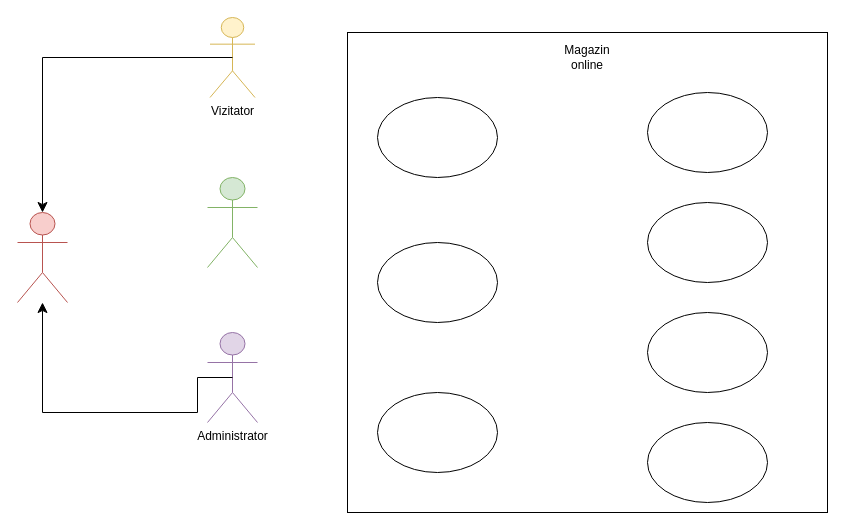
This 845x530 diagram has some shape labels left out. The shapes that lost their labels are listed below. From the top down, each one's box as (x1, y1, x2, y2) in pixels, then its label:
(206, 176, 258, 268): Client
(16, 212, 68, 302): Actor
